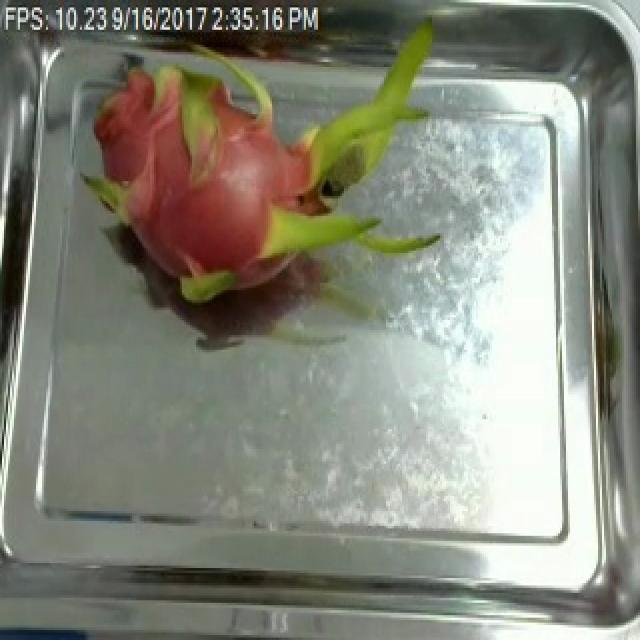fruit: (52, 3, 458, 367)
